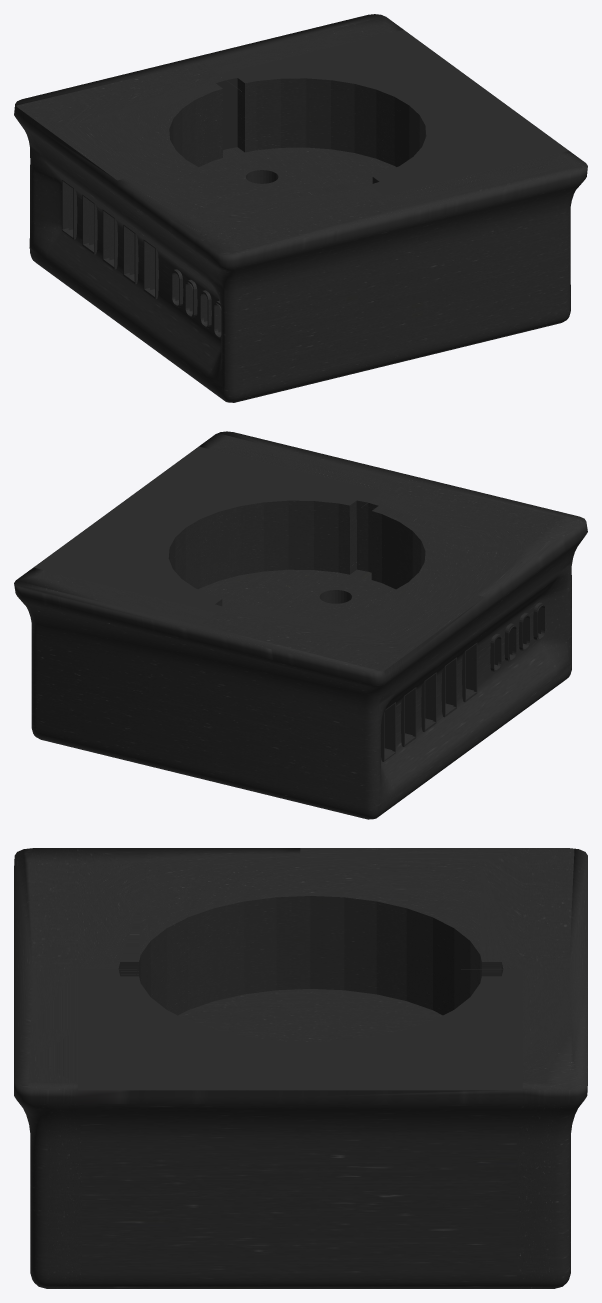
The model's file is doc.glb.
3 views of the same model, one above another, from view 1: azimuth 30°, elevation 25°; view 2: azimuth 150°, elevation 25°; view 3: azimuth 270°, elevation 25° (orthographic). The views are drawn at different scales.
Parts seen in each view (by area): view 1: Port_Deckel_Final; view 2: Port_Deckel_Final; view 3: Port_Deckel_Final.
Boxes of the visible parts, left/top/right/bottom form: Port_Deckel_Final: left=14, top=14, right=587, bottom=402; Port_Deckel_Final: left=14, top=431, right=587, bottom=819; Port_Deckel_Final: left=14, top=848, right=587, bottom=1288.
Size of the model in its own units: 0.0997 by 0.0405 by 0.0995.
1 material, 1 textured.
